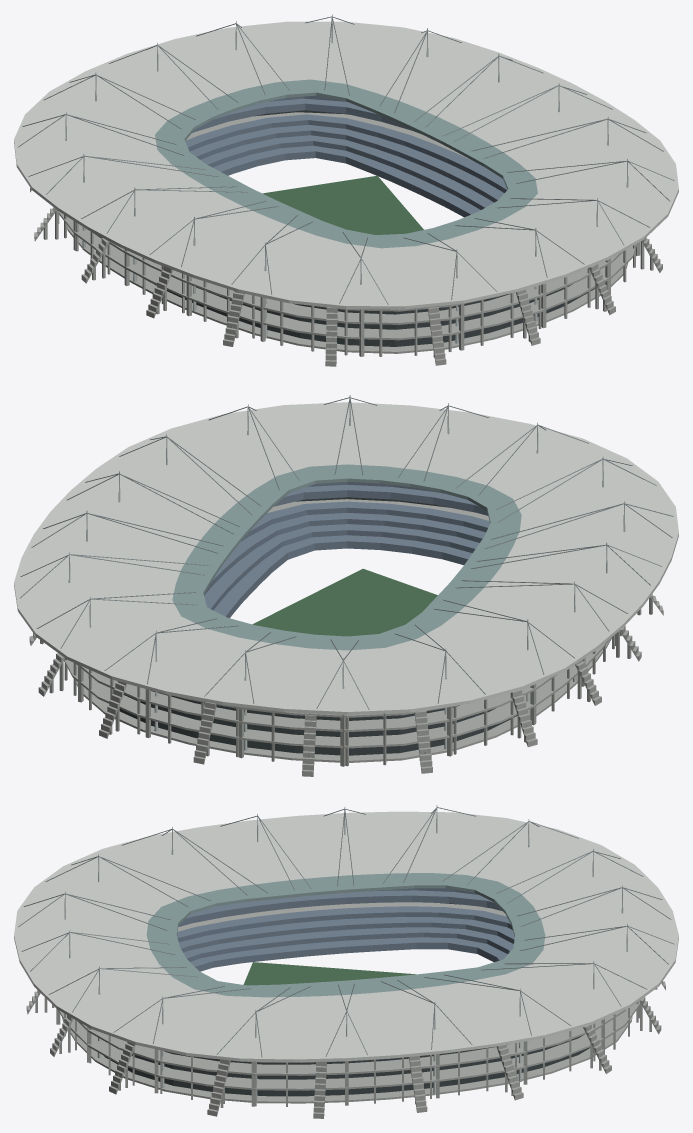
File: stade-de-france-far.glb
3 views of the same model, one above another, from view 1: azimuth 30°, elevation 25°; view 2: azimuth 150°, elevation 25°; view 3: azimuth 270°, elevation 25° (orthographic). The views are drawn at different scales.
Visible parts, largest first — view 1: stade-de-france-0-roof, stade-de-france-0-concrete, stade-de-france-0-seats, stade-de-france-0-glazing, stade-de-france-0-stay, stade-de-france-0-field, stade-de-france-0-recess, stade-de-france-0-mast; view 2: stade-de-france-0-roof, stade-de-france-0-concrete, stade-de-france-0-glazing, stade-de-france-0-seats, stade-de-france-0-stay, stade-de-france-0-field, stade-de-france-0-recess, stade-de-france-0-mast; view 3: stade-de-france-0-roof, stade-de-france-0-concrete, stade-de-france-0-seats, stade-de-france-0-glazing, stade-de-france-0-stay, stade-de-france-0-recess, stade-de-france-0-field, stade-de-france-0-mast.
Part boxes in pixels (x1,y1,x2,y2): stade-de-france-0-roof: (14, 21, 678, 309); stade-de-france-0-concrete: (30, 112, 662, 366); stade-de-france-0-seats: (185, 95, 507, 217); stade-de-france-0-glazing: (155, 79, 537, 248); stade-de-france-0-stay: (18, 16, 674, 304); stade-de-france-0-field: (262, 175, 423, 234); stade-de-france-0-recess: (147, 110, 594, 346); stade-de-france-0-mast: (65, 14, 628, 343); stade-de-france-0-roof: (14, 402, 678, 715); stade-de-france-0-concrete: (29, 499, 663, 776); stade-de-france-0-glazing: (172, 464, 521, 650); stade-de-france-0-seats: (204, 482, 489, 618); stade-de-france-0-stay: (20, 397, 673, 709); stade-de-france-0-field: (252, 568, 437, 636); stade-de-france-0-recess: (119, 497, 517, 755); stade-de-france-0-mast: (68, 395, 625, 750); stade-de-france-0-roof: (14, 811, 678, 1062); stade-de-france-0-concrete: (26, 902, 665, 1118); stade-de-france-0-seats: (177, 888, 514, 971); stade-de-france-0-glazing: (146, 873, 545, 997); stade-de-france-0-stay: (18, 807, 674, 1057); stade-de-france-0-recess: (104, 903, 590, 1096); stade-de-france-0-field: (243, 962, 415, 985); stade-de-france-0-mast: (64, 805, 627, 1102).
Bounding box in the file's own units: 286 × 50 × 324.
